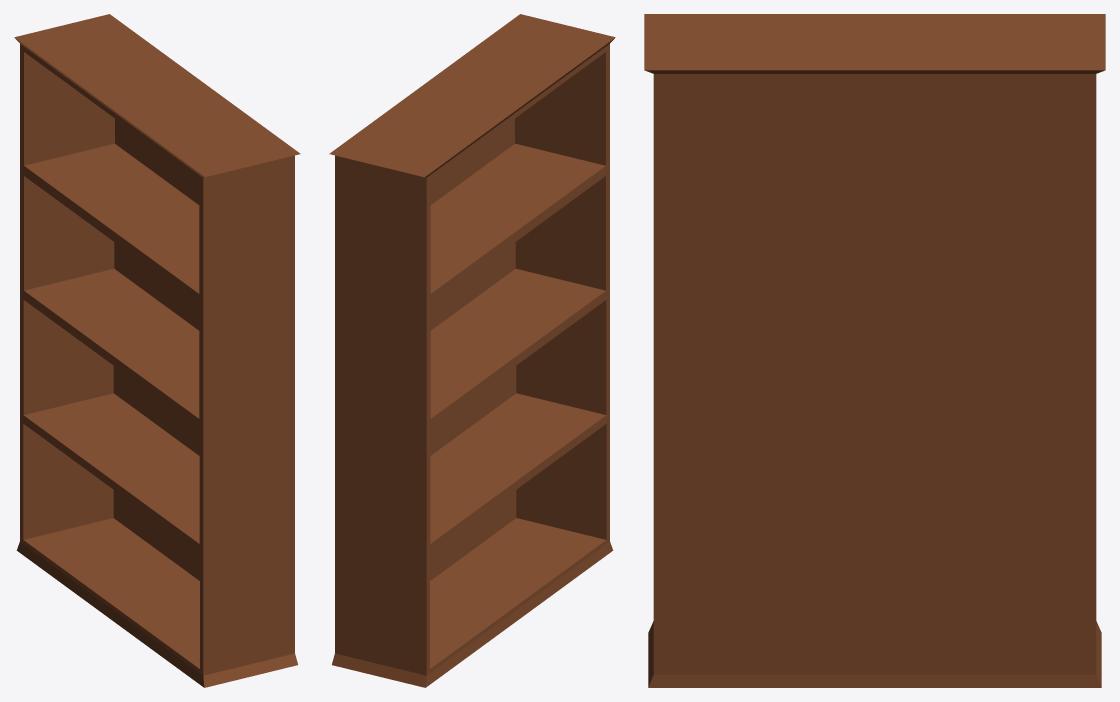
File: bookcasewood02.gltf
3 renders of one model, left to right at view 1: azimuth 30°, elevation 25°; view 2: azimuth 150°, elevation 25°; view 3: azimuth 270°, elevation 25°, orthographic. The views are drawn at different scales.
Visible parts, largest first — view 1: Cube.001; view 2: Cube.001; view 3: Cube.001.
Part boxes in pixels (bbox=[...]): Cube.001: bbox=[14, 14, 300, 687]; Cube.001: bbox=[329, 14, 615, 687]; Cube.001: bbox=[644, 14, 1105, 687].
Size of the model in its own units: 0.4213 by 2.16 by 1.46.
Materials: 1 (1 with a texture image).
